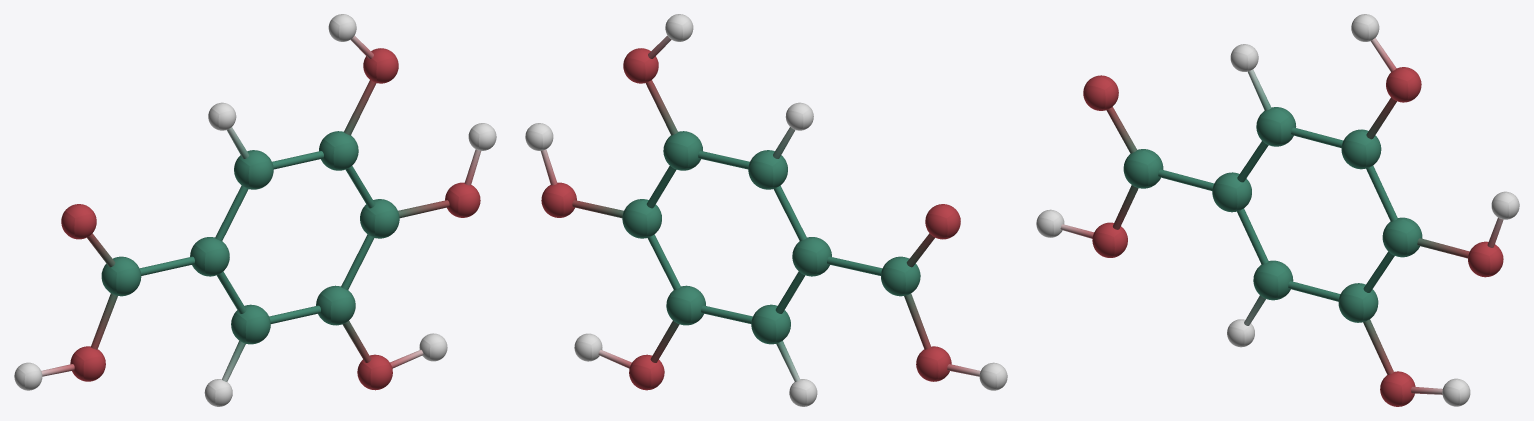
File: Gallic Acid.fbx
The picture shows the model from 3 angles, left to right: view 1: azimuth 30°, elevation 25°; view 2: azimuth 150°, elevation 25°; view 3: azimuth 330°, elevation 25°; orthographic projection.
Parts seen in each view (by area): view 1: curMeshHyperballExportedMesh; view 2: curMeshHyperballExportedMesh; view 3: curMeshHyperballExportedMesh.
Boxes of the visible parts, x1,y1,x2,y2 form: curMeshHyperballExportedMesh: [14, 14, 496, 406]; curMeshHyperballExportedMesh: [525, 14, 1007, 406]; curMeshHyperballExportedMesh: [1036, 14, 1519, 406].
Bounding box in the file's own units: 7.86 × 5.98 × 0.5674.
